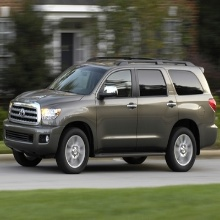no damage: (3, 55, 218, 172)
